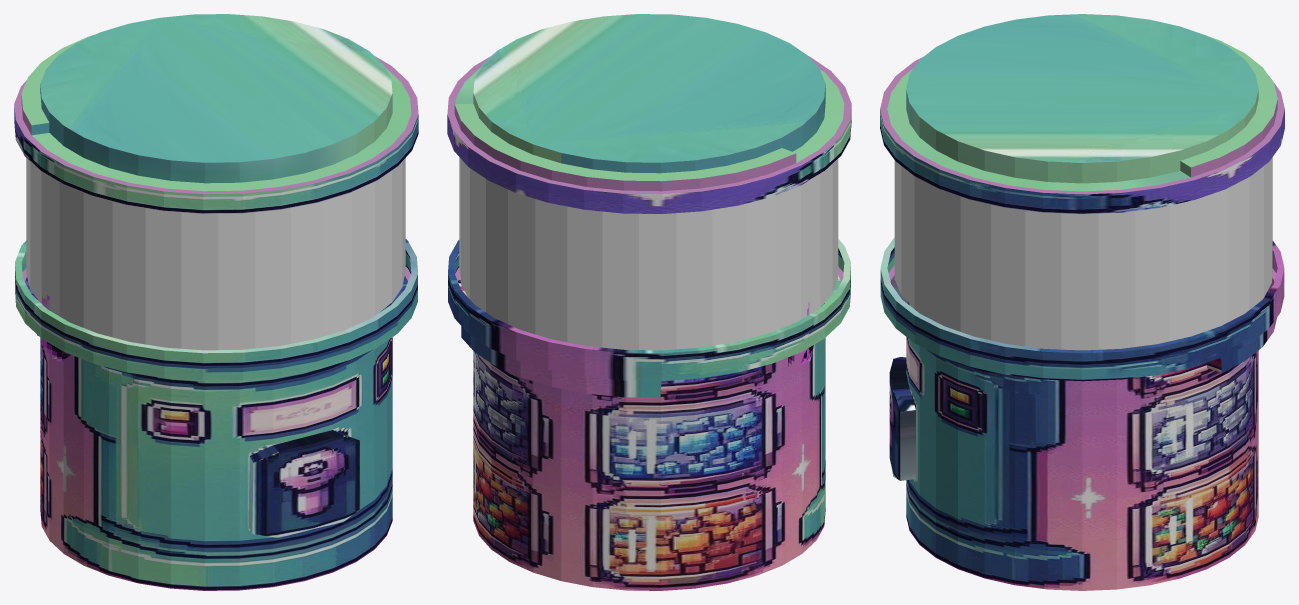
Rendered from GemMachine.fbx.
The picture shows the model from 3 angles, left to right: view 1: azimuth 30°, elevation 25°; view 2: azimuth 150°, elevation 25°; view 3: azimuth 270°, elevation 25°; orthographic projection.
Parts seen in each view (by area): view 1: Cylinder, Cylinder.001; view 2: Cylinder, Cylinder.001; view 3: Cylinder, Cylinder.001.
Part boxes in pixels (box(x1,y1,x2,y2)): Cylinder: box(14, 14, 418, 590); Cylinder.001: box(26, 158, 405, 350); Cylinder: box(447, 14, 851, 590); Cylinder.001: box(459, 157, 838, 350); Cylinder: box(880, 14, 1284, 590); Cylinder.001: box(894, 157, 1272, 350).
Bounding box in the file's own units: 110 × 129 × 110.
9 materials, 8 textured.
